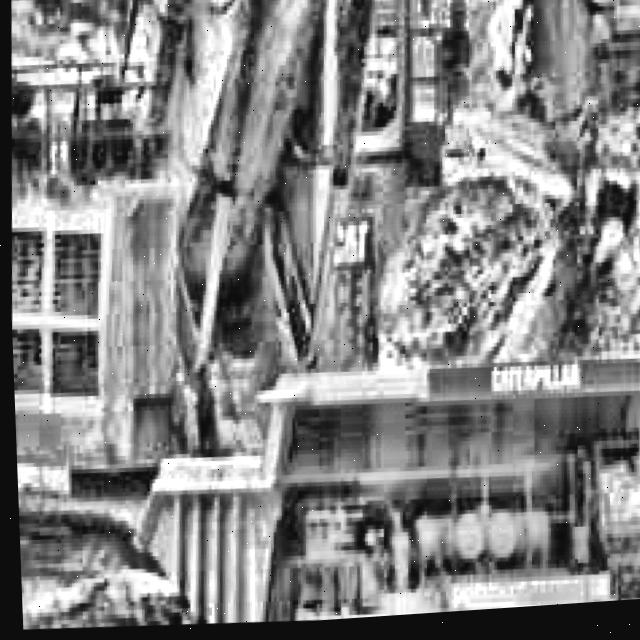dump_truck: (106, 304, 640, 635)
